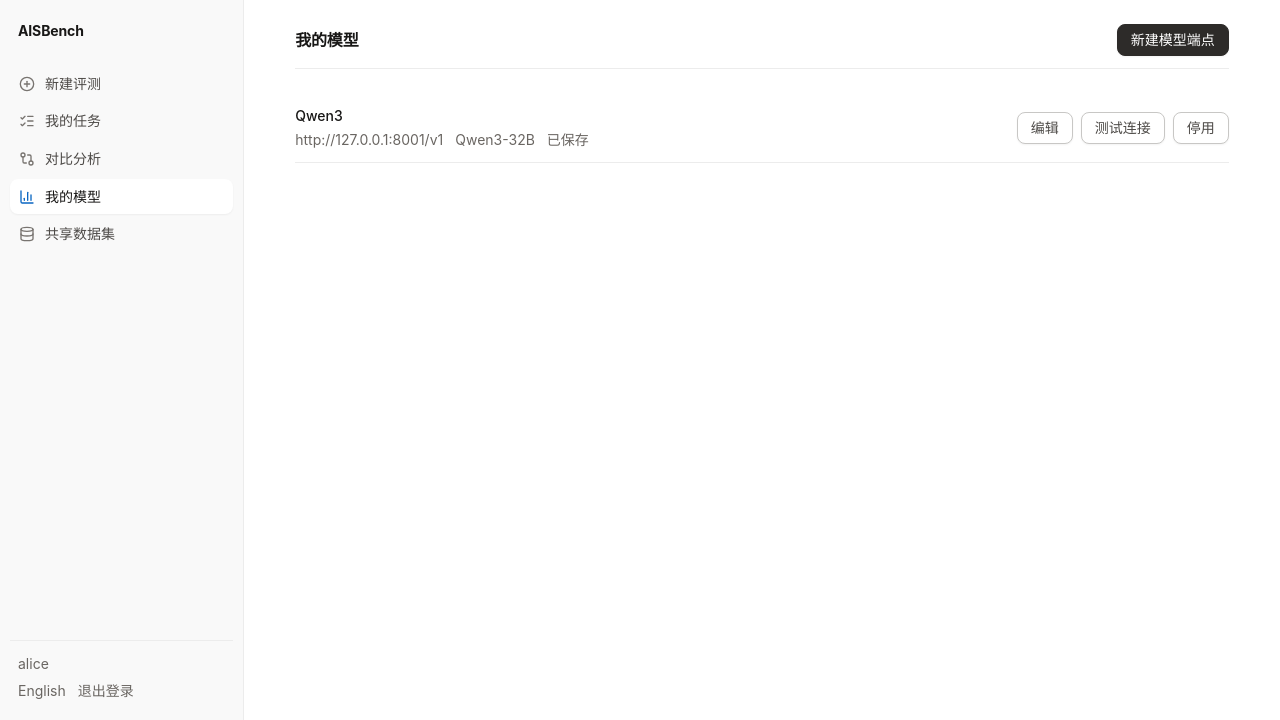
it: my models › creates an endpoint through one modal
Click the button "新建模型端点". click: (1173, 40)
box: [1117,24,1229,56]
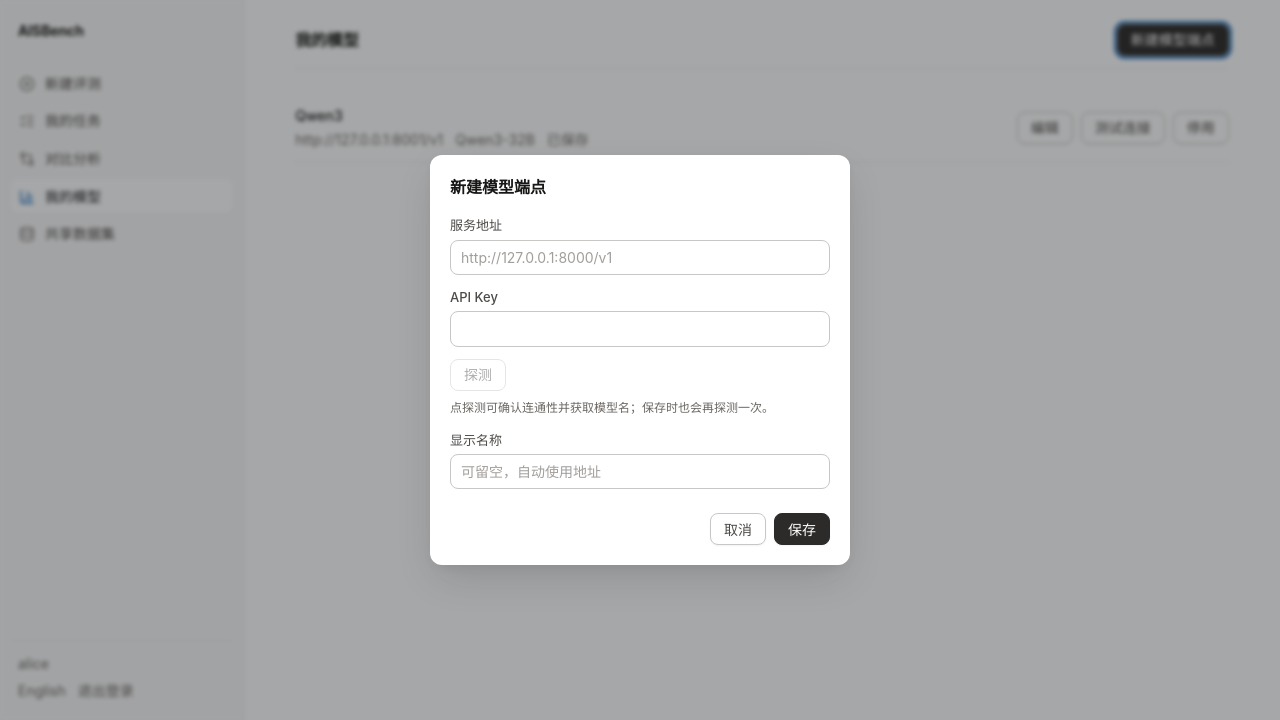
Type "http://127.0.0.1:9000/v1" into the field labelled "服务地址". click: (640, 257)
box: [450,240,830,275]
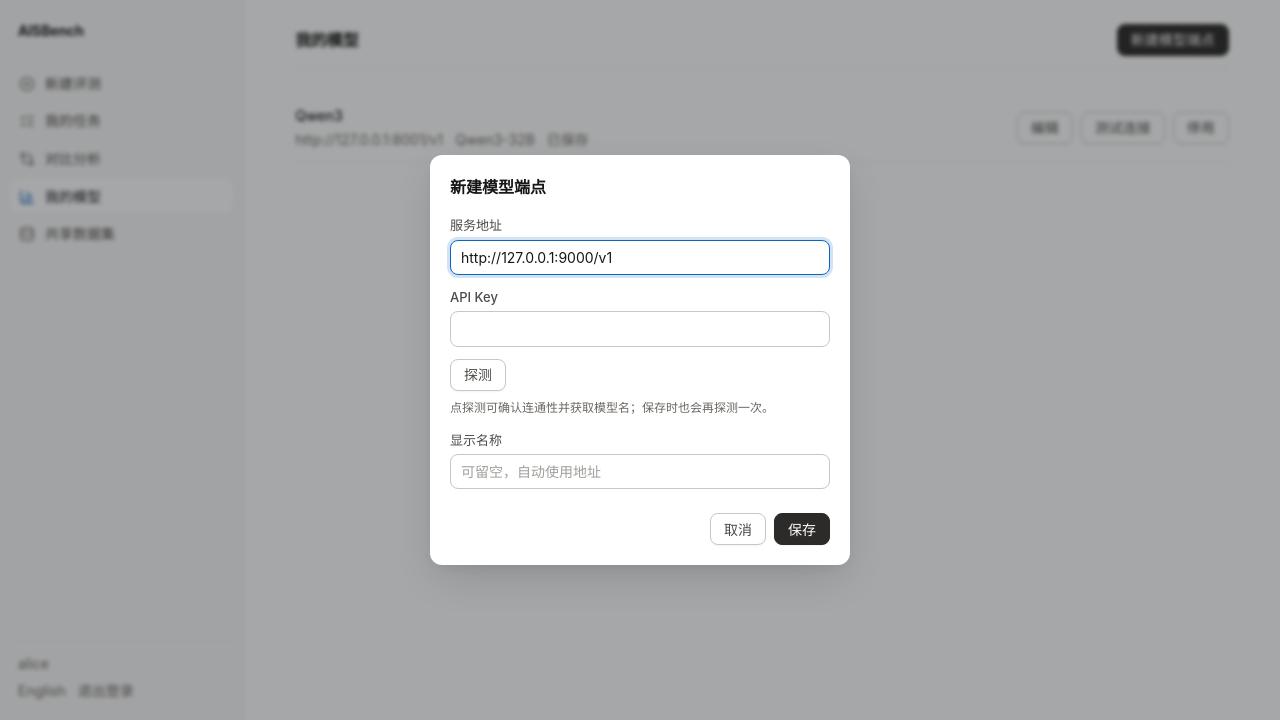
Type "top-secret" into the password field labelled "API Key". click: (640, 329)
box: [450,311,830,347]
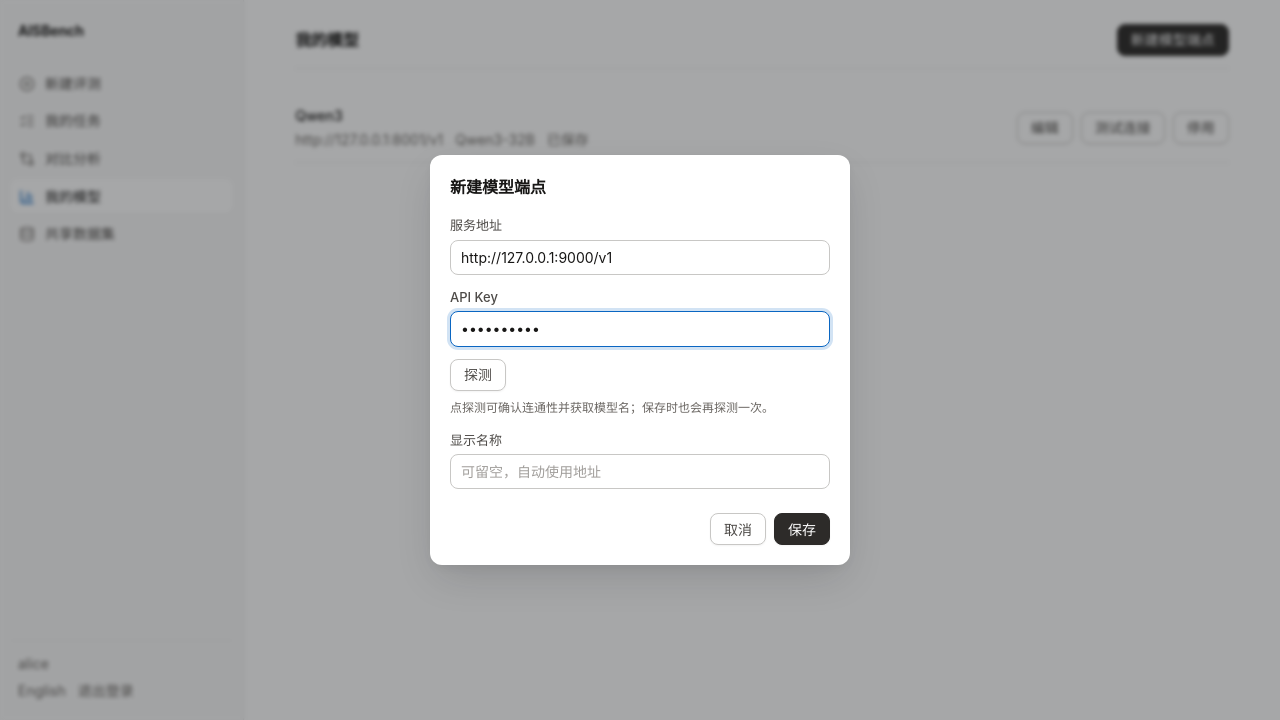
Type "new" into the field labelled "显示名称". click: (640, 472)
box: [450,454,830,490]
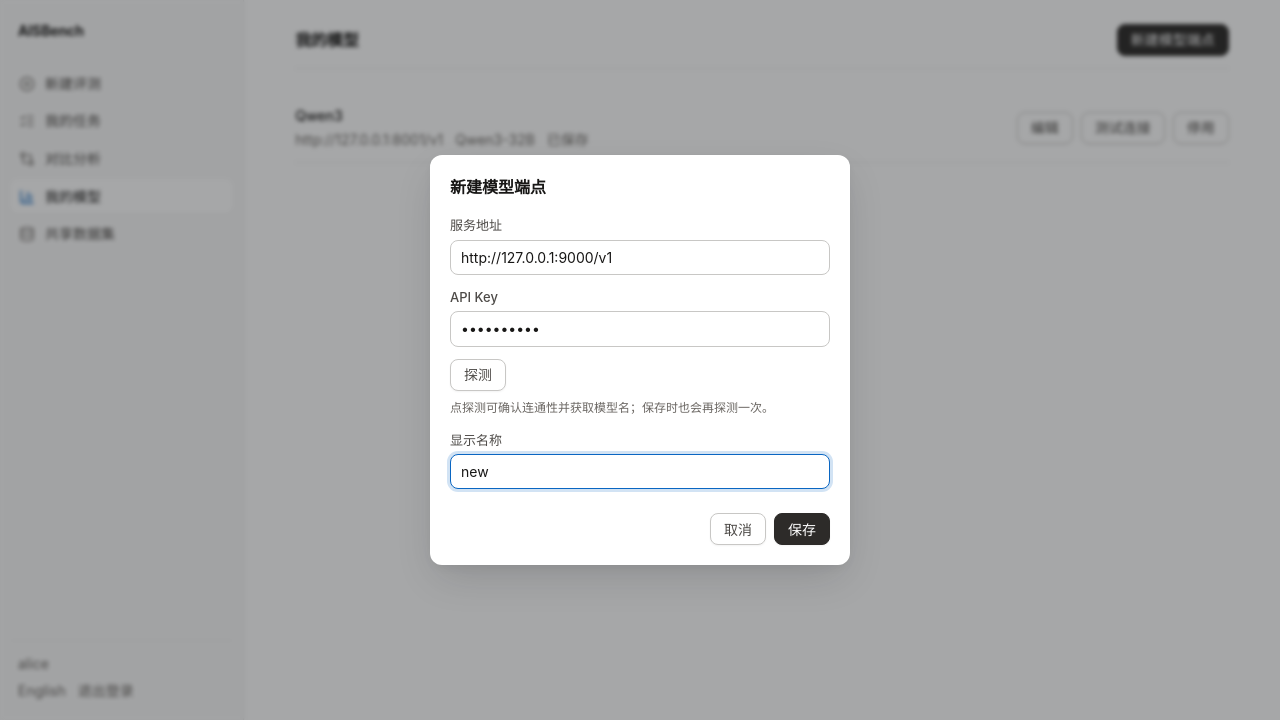
Click the button "保存". click: (802, 529)
box: [774,513,830,545]
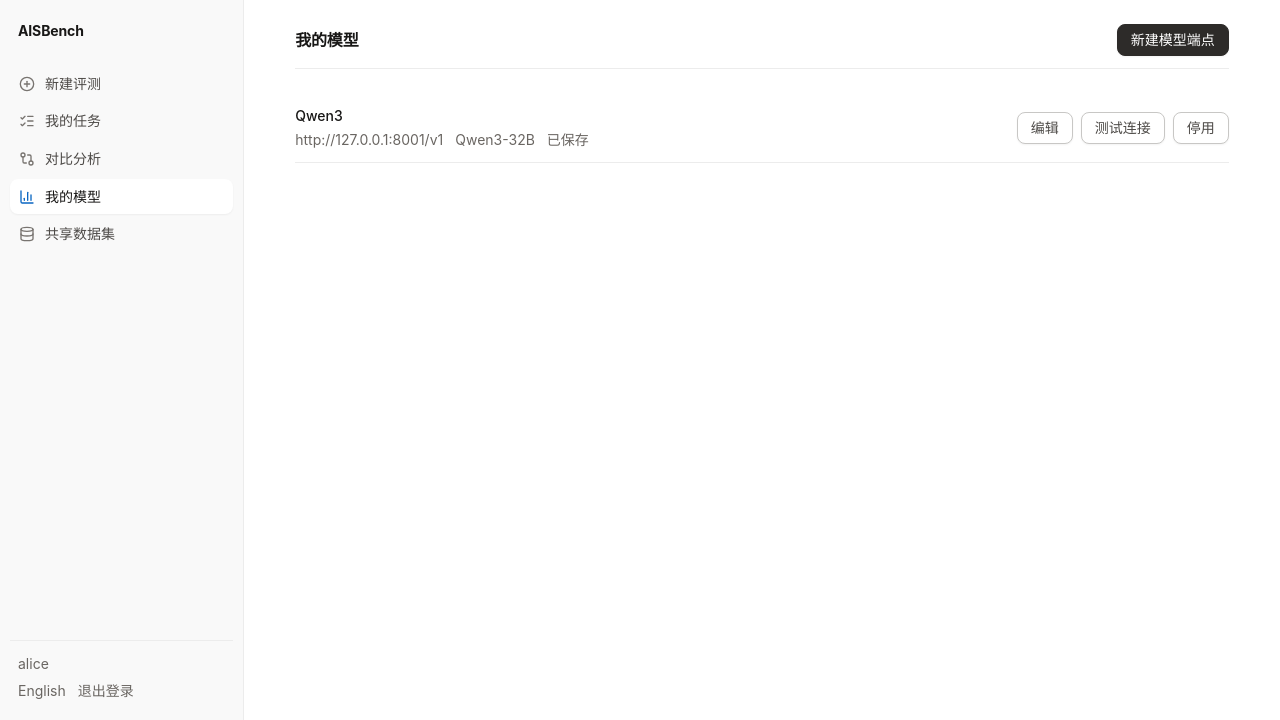
Check: the dialog is gone
